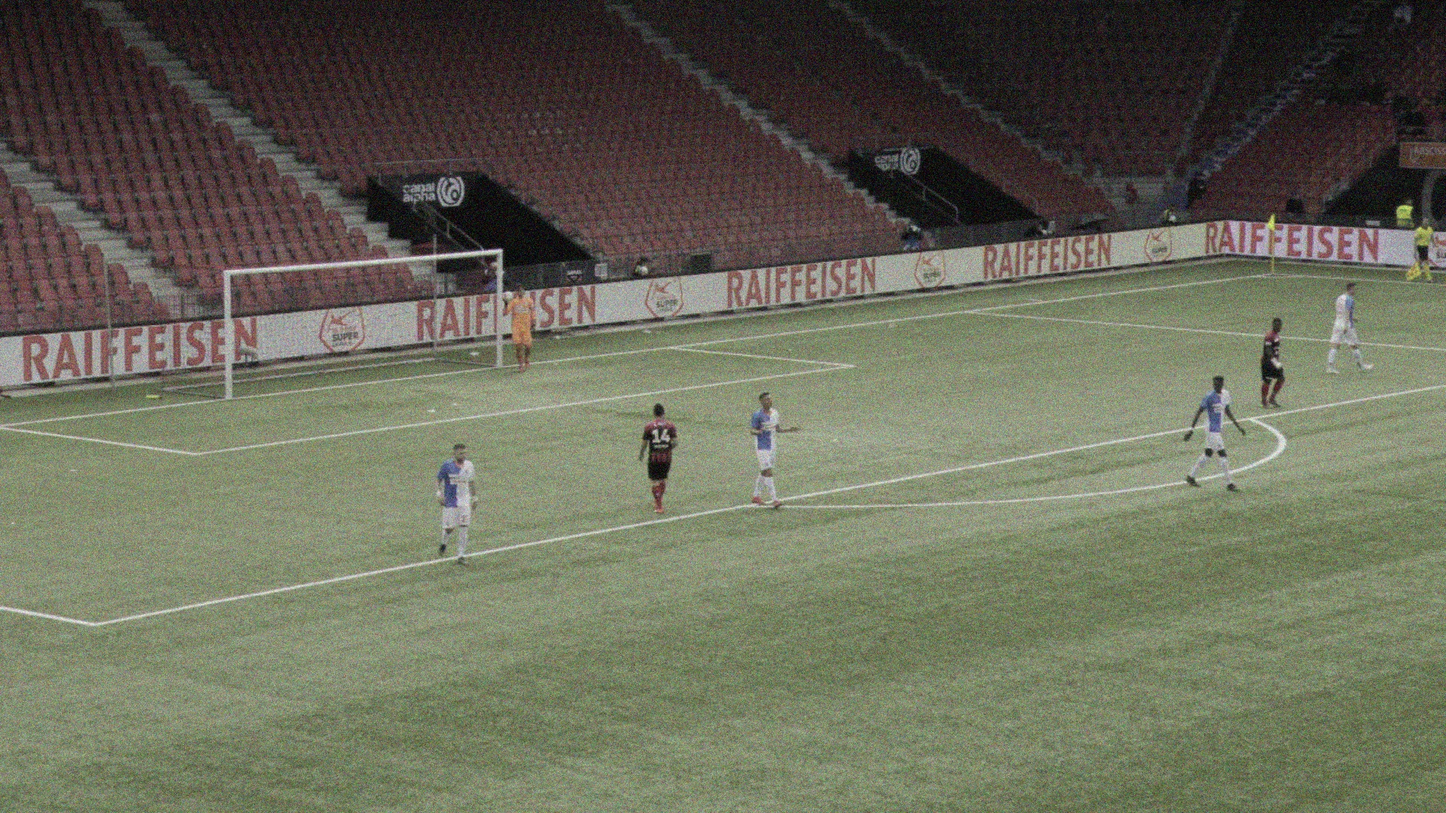ball: (503, 291, 512, 300)
goalkeeper: (502, 283, 535, 372)
player: (748, 391, 801, 507), (1188, 373, 1240, 491), (435, 442, 477, 562), (639, 403, 679, 511), (1326, 282, 1365, 374), (1254, 318, 1289, 408)
referee: (1412, 215, 1436, 282)
